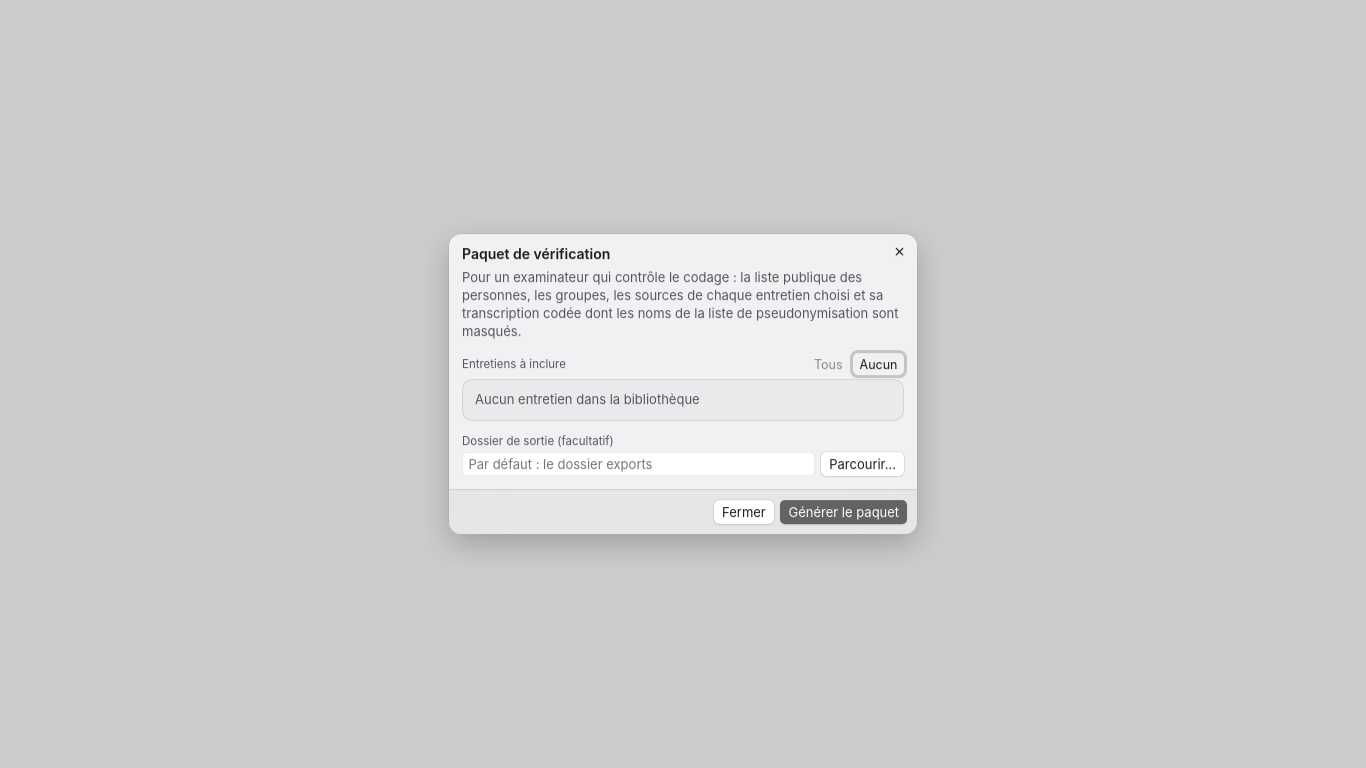
Scenario: Paquet de vérification › shows the refusal of the server
Step 1. Click the button "Générer le paquet" → (844, 512), box [780, 500, 907, 524]
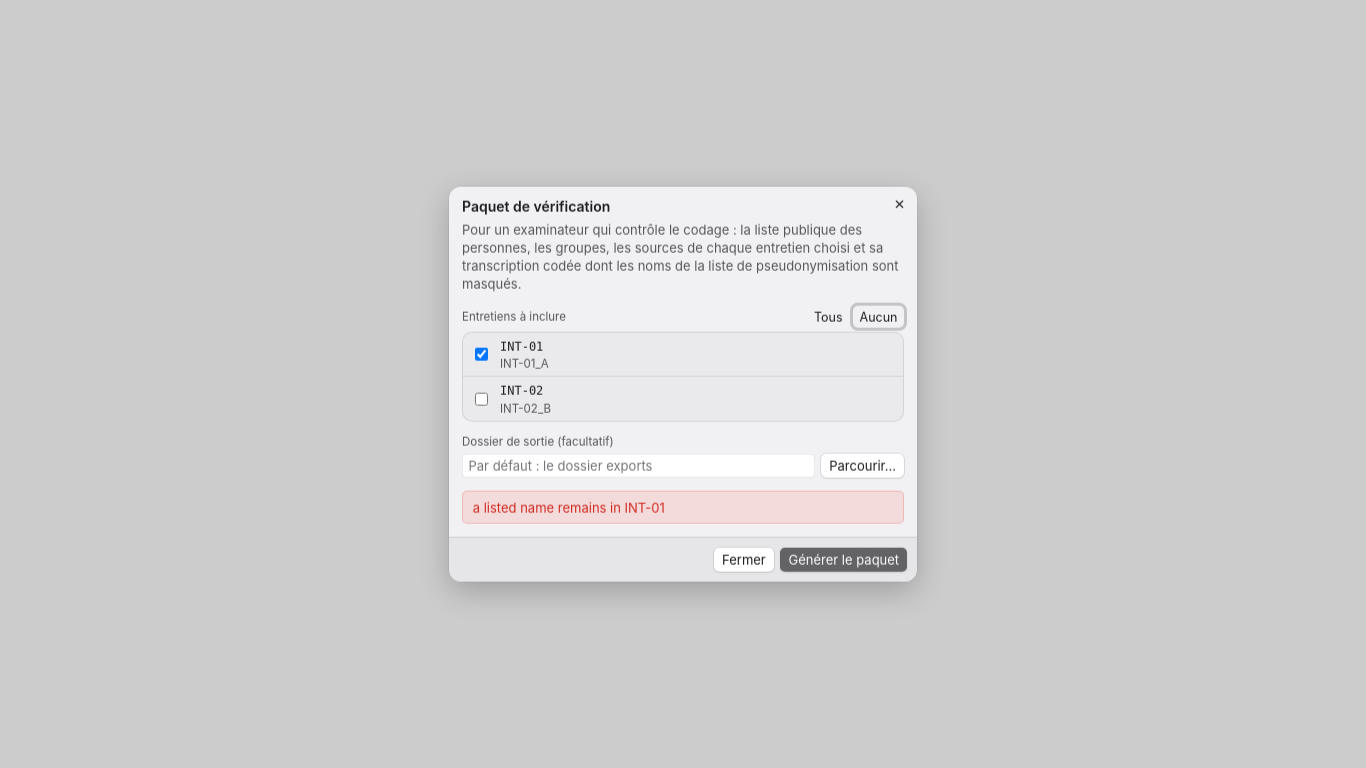
Expected: the message shows "a listed name remains", [473, 499, 665, 515]
